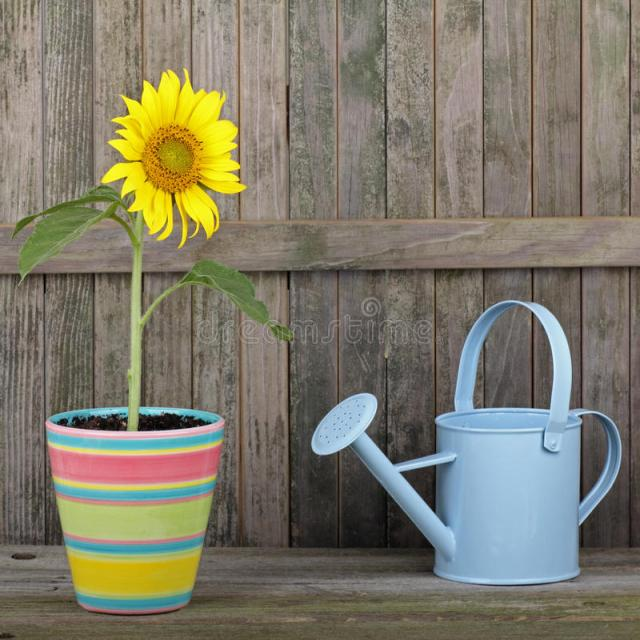sunflower: (113, 70, 253, 248)
